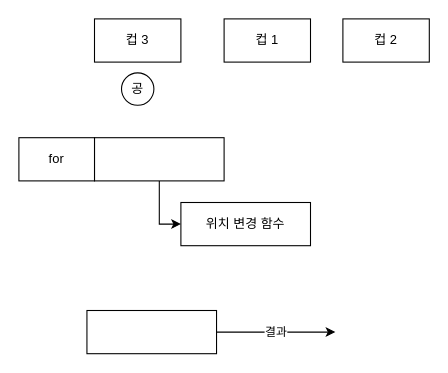
Some shapes in this 448 by 373 pixel diagram are drawn without their labels. The box of each missing label's shape, as (x1, y1, x2, y2) in pixels:
공 위치: (86, 309, 217, 354)
변경 횟수: (93, 137, 224, 181)
